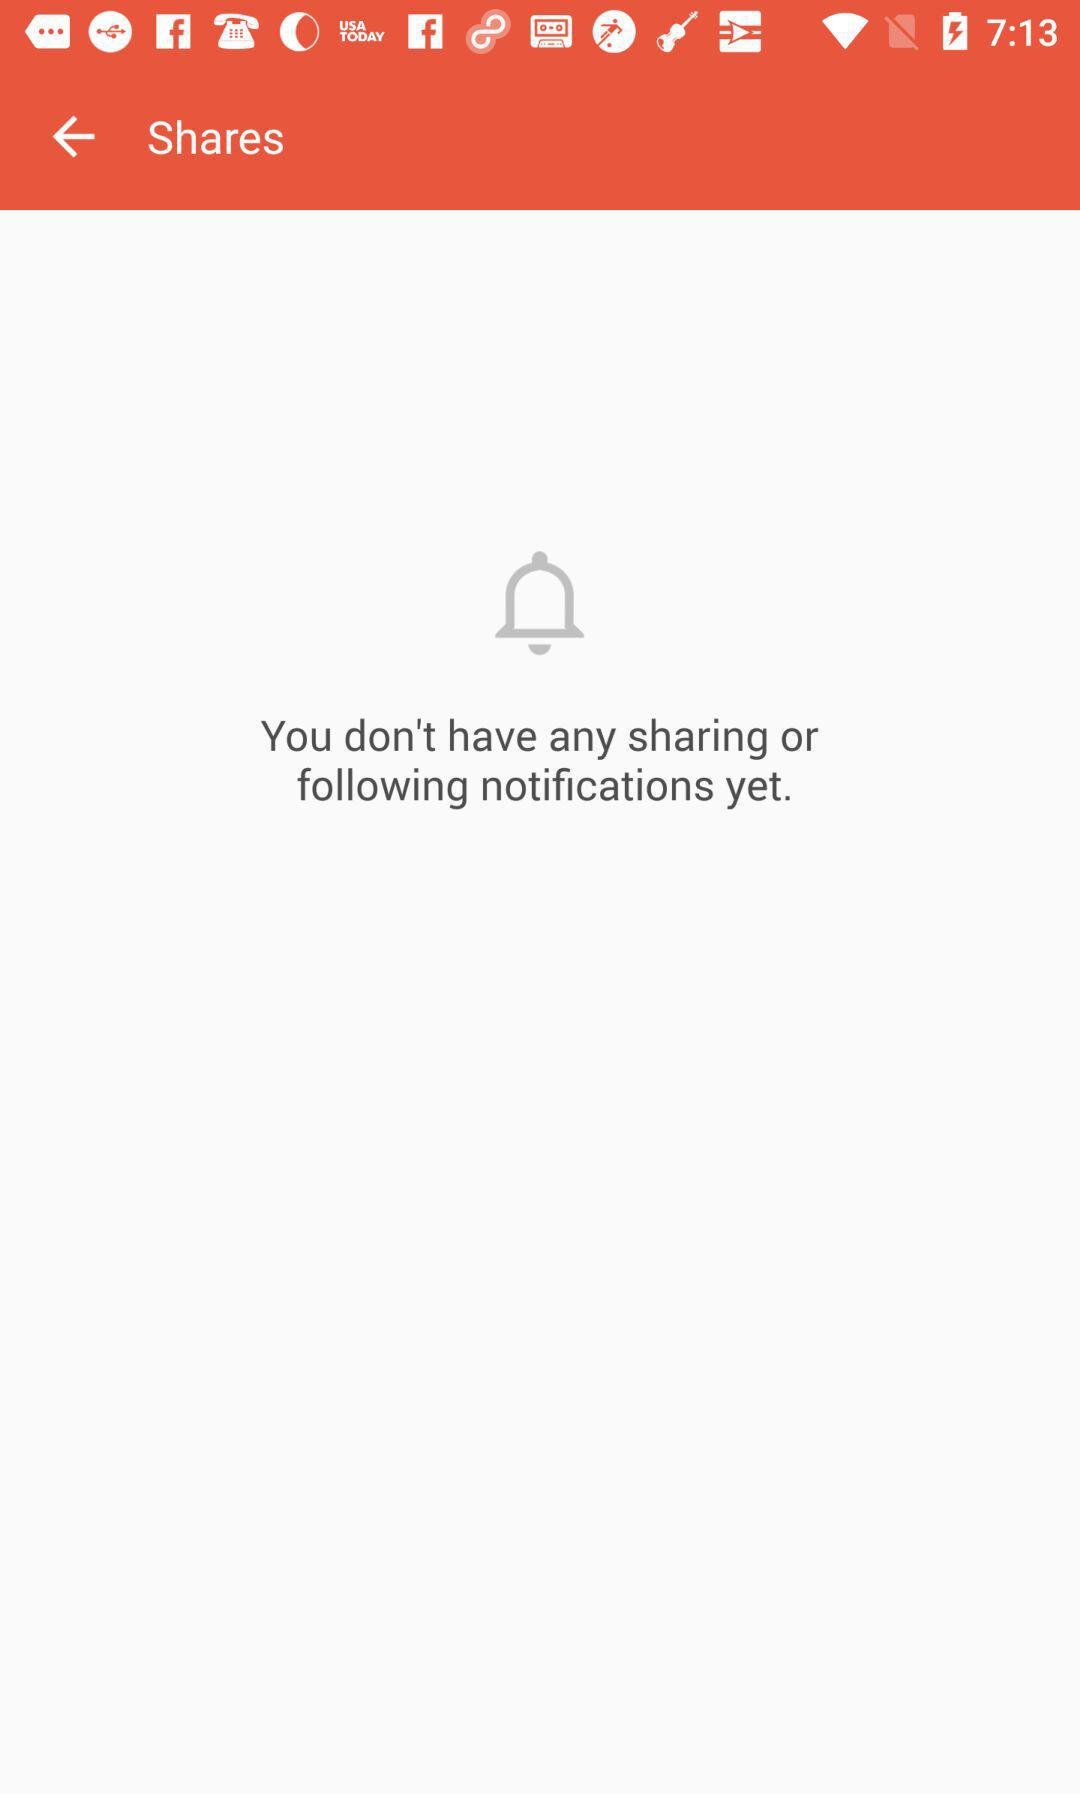Icon: (495, 551, 585, 657), (53, 115, 97, 160)
Text: (261, 718, 820, 811), (149, 120, 284, 158)
Toolbar: (1, 64, 1080, 211)
UpperTaskBar: (1, 1, 1080, 64)
